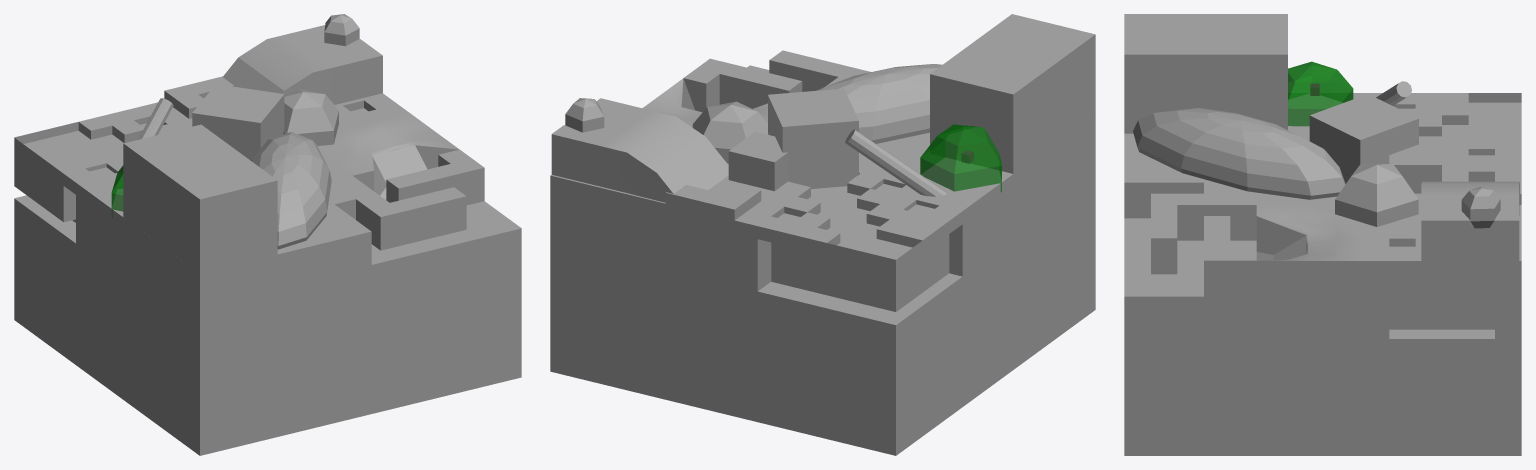
File: Map3.fbx
3 views of the same model, side by side, from view 1: azimuth 30°, elevation 25°; view 2: azimuth 150°, elevation 25°; view 3: azimuth 270°, elevation 25° (orthographic). The views are drawn at different scales.
Visible parts, largest first — view 1: pCube1, pCube3, pCube4, pSphere1, pCube5, pSphere2, pSphere3, pCylinder1; view 2: pCube1, pCube3, pCube4, pCube5, pSphere1, pSphere4, pSphere2, pCylinder1, pSphere3; view 3: pCube1, pCube3, pSphere1, pCube4, pCube5, pSphere2, pSphere4, pSphere3, pCylinder1.
Part boxes in pixels (<box>): pCube1: <box>14,76,521,455</box>; pCube3: <box>123,124,277,273</box>; pCube4: <box>223,25,382,104</box>; pSphere1: <box>251,132,331,249</box>; pCube5: <box>192,84,284,160</box>; pSphere2: <box>283,89,338,145</box>; pSphere3: <box>324,14,359,46</box>; pCylinder1: <box>138,98,173,139</box>; pCube1: <box>550,50,1095,455</box>; pCube3: <box>930,14,1095,173</box>; pCube4: <box>551,98,728,202</box>; pCube5: <box>768,88,858,188</box>; pSphere1: <box>817,64,942,143</box>; pSphere4: <box>920,124,1001,192</box>; pSphere2: <box>692,101,768,163</box>; pCylinder1: <box>845,129,946,196</box>; pSphere3: <box>565,98,604,132</box>; pCube1: <box>1124,93,1521,455</box>; pCube3: <box>1124,14,1287,133</box>; pSphere1: <box>1133,108,1345,199</box>; pCube4: <box>1421,181,1519,261</box>; pCube5: <box>1309,94,1418,183</box>; pSphere2: <box>1335,163,1418,226</box>; pSphere4: <box>1288,61,1353,126</box>; pSphere3: <box>1461,187,1500,228</box>; pCylinder1: <box>1376,81,1411,105</box>.
Size of the model in its own units: 17.36 by 13.2 by 17.33.
